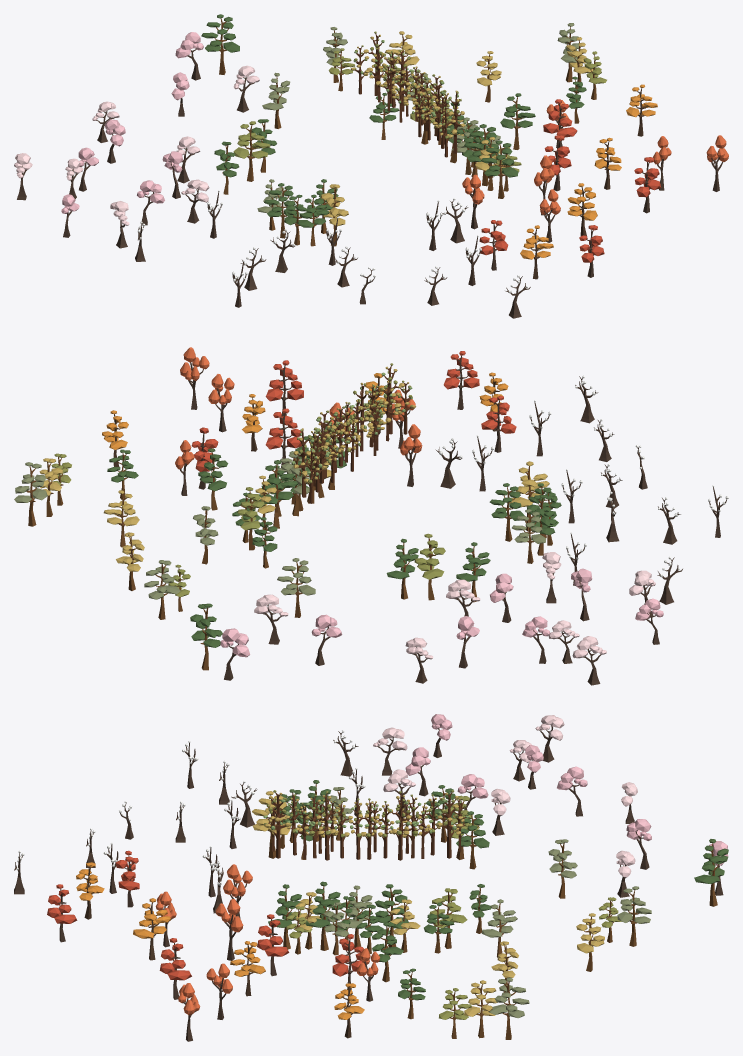
The model's file is 07level_trees_v1.fbx.
The picture shows the model from 3 angles, top to bottom: view 1: azimuth 30°, elevation 25°; view 2: azimuth 150°, elevation 25°; view 3: azimuth 270°, elevation 25°; orthographic projection. The views are drawn at different scales.
Visible parts, largest first — view 1: Leave_Tree.112, Leave_Tree.123, Leave_Tree.113, Leave_Tree_042.004, Leave_Tree_084.002, Leave_Tree.138, Leave_Tree_042.005, Leave_Tree.114, Leave_Tree.118, Leave_Tree_084.001, Leave_Tree.126, Leave_Tree_042.001 (+3 smaller); view 2: Leave_Tree_042.005, Leave_Tree_042.002, Leave_Tree.111, Leave_Tree.112, Leave_Tree.132, Leave_Tree_042.003, Leave_Tree.113, Leave_Tree.143, Leave_Tree.114, Leave_Tree.137, Leave_Tree_042.001, Leave_Tree.128 (+8 smaller); view 3: Leave_Tree.143, Leave_Tree.112, Leave_Tree_084.002, Leave_Tree_042.002, Leave_Tree_042.005, Leave_Tree.132, Leave_Tree_042.004, Leave_Tree.137, Leave_Tree.126, Leave_Tree_084.004, Leave_Tree.135, Leave_Tree_042.003 (+12 smaller).
Boxes of the visible parts, x1=… form: Leave_Tree.112: x1=201, y1=14, x2=239, y2=52; Leave_Tree.123: x1=481, y1=140, x2=518, y2=177; Leave_Tree.113: x1=233, y1=121, x2=270, y2=158; Leave_Tree_042.004: x1=543, y1=99, x2=577, y2=137; Leave_Tree_084.002: x1=567, y1=183, x2=597, y2=220; Leave_Tree.138: x1=500, y1=93, x2=535, y2=128; Leave_Tree_042.005: x1=634, y1=157, x2=661, y2=197; Leave_Tree.114: x1=320, y1=184, x2=348, y2=226; Leave_Tree.118: x1=264, y1=183, x2=299, y2=217; Leave_Tree_084.001: x1=520, y1=225, x2=553, y2=259; Leave_Tree.126: x1=464, y1=124, x2=499, y2=162; Leave_Tree_042.001: x1=479, y1=220, x2=508, y2=255; Leave_Tree_042.005: x1=265, y1=360, x2=303, y2=401; Leave_Tree_042.002: x1=265, y1=408, x2=301, y2=449; Leave_Tree.111: x1=277, y1=558, x2=315, y2=595; Leave_Tree.112: x1=190, y1=603, x2=222, y2=647; Leave_Tree.132: x1=259, y1=460, x2=298, y2=503; Leave_Tree_042.003: x1=443, y1=351, x2=479, y2=389; Leave_Tree.113: x1=414, y1=533, x2=445, y2=579; Leave_Tree.143: x1=14, y1=462, x2=47, y2=502; Leave_Tree.114: x1=509, y1=461, x2=549, y2=506; Leave_Tree.137: x1=144, y1=560, x2=180, y2=599; Leave_Tree_042.001: x1=481, y1=395, x2=516, y2=433; Leave_Tree.128: x1=489, y1=483, x2=524, y2=520; Leave_Tree.143: x1=488, y1=977, x2=529, y2=1018; Leave_Tree.112: x1=694, y1=839, x2=728, y2=883; Leave_Tree_084.002: x1=133, y1=898, x2=171, y2=938; Leave_Tree_042.002: x1=257, y1=914, x2=289, y2=956; Leave_Tree_042.005: x1=159, y1=938, x2=191, y2=980; Leave_Tree.132: x1=374, y1=884, x2=408, y2=928; Leave_Tree_042.004: x1=332, y1=934, x2=365, y2=976; Leave_Tree.137: x1=617, y1=886, x2=651, y2=923; Leave_Tree.126: x1=305, y1=881, x2=340, y2=927; Leave_Tree_084.004: x1=230, y1=941, x2=265, y2=976; Leave_Tree.135: x1=481, y1=899, x2=517, y2=937; Leave_Tree_042.003: x1=47, y1=884, x2=77, y2=923.
Size of the model in its own units: 17023 by 3637 by 17548.
